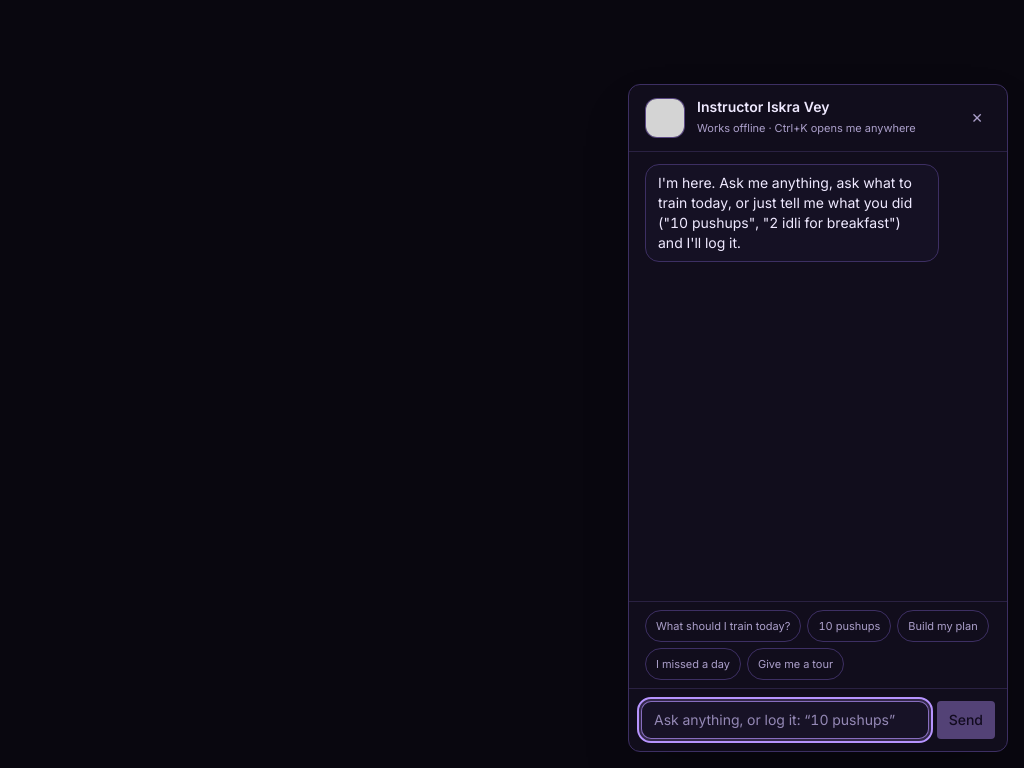
Test: Coaching team (item 13) › the drawer header shows who is answering
Type "is creatine worth it" into the field named "Message the trainer" at (785, 720), box [641, 701, 929, 739]
Then press Enter
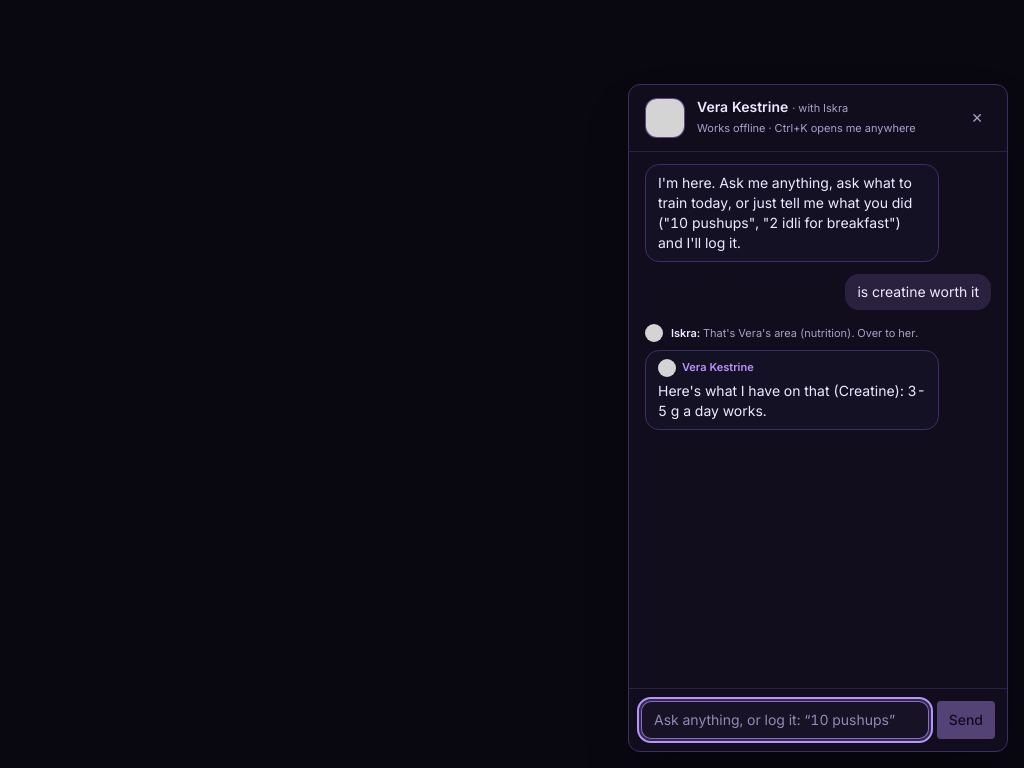
expect the element with test id "handoff-line" is shown: met, box [645, 322, 918, 344]
expect the header shows "Vera Kestrine": met, box [697, 98, 788, 115]
expect the header shows "with Iskra": met, box [629, 85, 1007, 152]
